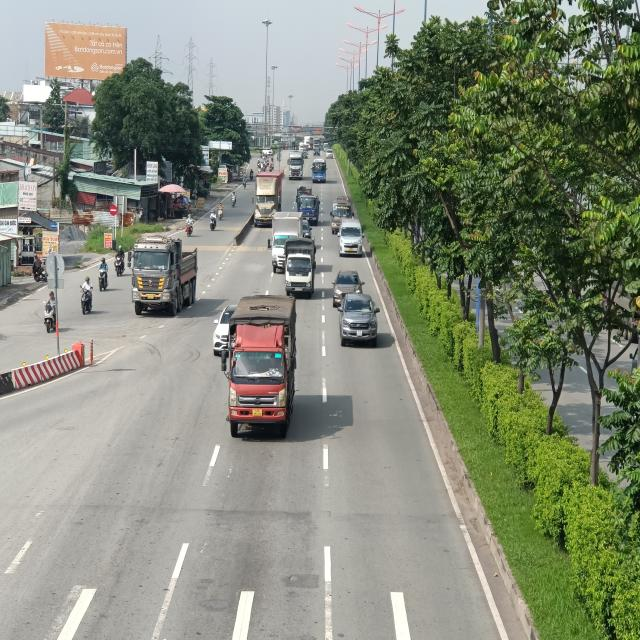car: (337, 293, 380, 348), (332, 269, 365, 309)
coach: (331, 197, 352, 233), (310, 157, 328, 183)
container: (127, 234, 199, 316), (252, 169, 283, 228), (288, 150, 304, 179)
truck: (220, 292, 298, 434), (284, 237, 316, 297), (273, 210, 301, 275), (298, 195, 318, 222)
van: (339, 217, 362, 257)
